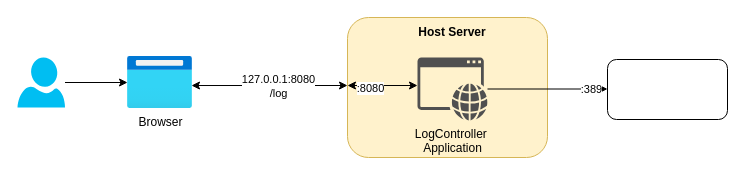
The diagram is 745 pixels wide and 175 high, and some of its shapes have lost their labels. Here are the shapes that lost their labels. From the top down, the centre of each, then its label:
pixel 40 82: User
pixel 667 89: SimpleLDAPServer
